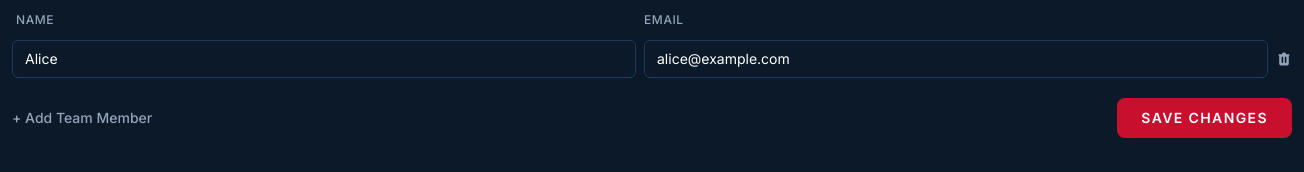
Test: removes a row when delete button is clicked
Check: the 1st field showing "Alice" is shown, box [12, 40, 636, 78]
What coordinates should you click on to do the following:
click the button named "Delete team member"
I would click on:
 (1284, 59)
Its box is [1276, 51, 1292, 67].
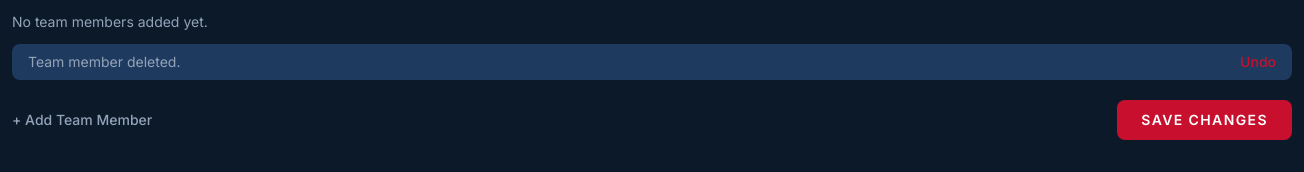
Check: the field showing "Alice" is not shown
Check: the text "No team members added yet." is shown, box [12, 13, 208, 30]
